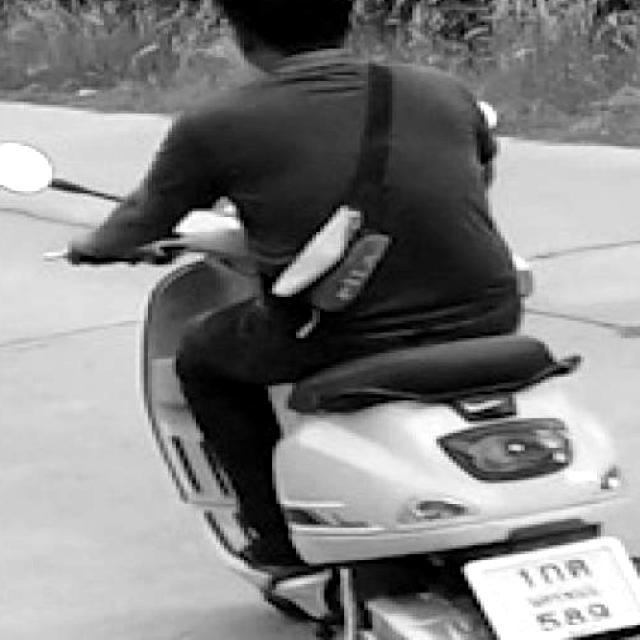letters: (532, 558, 564, 585), (533, 609, 559, 636), (589, 598, 614, 624), (566, 552, 588, 580), (563, 603, 581, 627), (516, 562, 532, 587)
license-plate: (465, 538, 640, 640)
province: (524, 583, 616, 604)
